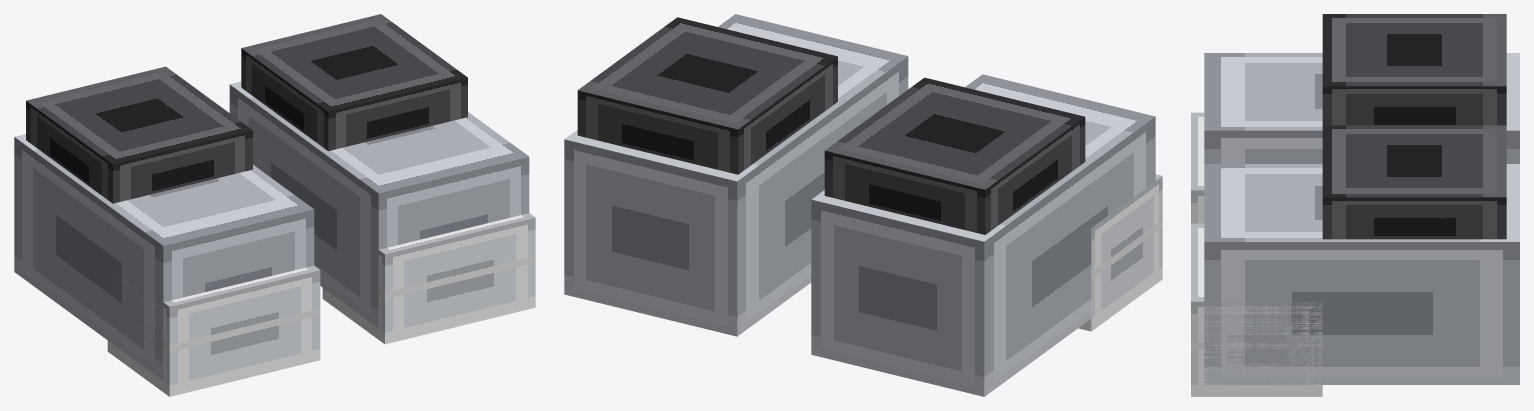
3 renders of one model, left to right at view 1: azimuth 30°, elevation 25°; view 2: azimuth 150°, elevation 25°; view 3: azimuth 270°, elevation 25°, orthographic. The views are drawn at different scales.
Parts seen in each view (by area): view 1: iron_feet; view 2: iron_feet; view 3: iron_feet.
Part boxes in pixels (x1,y1,x2,y2): iron_feet: (14,14,535,396); iron_feet: (564,14,1162,396); iron_feet: (1191,14,1519,396).
Bounding box in the file's own units: 0.34 × 0.165 × 0.25.
3 materials, 3 textured.
